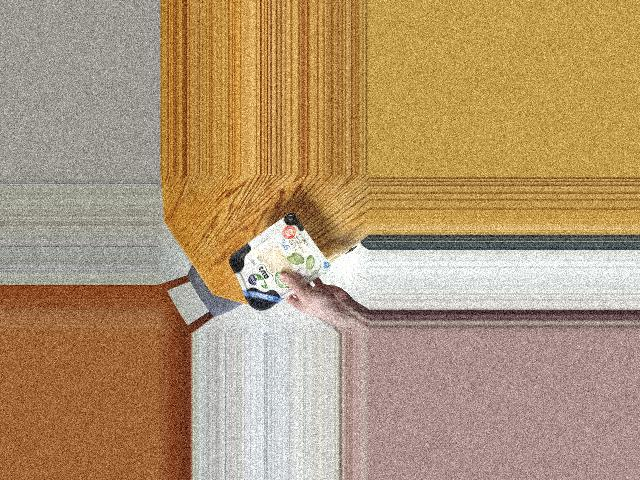cheese: (233, 219, 314, 316)
